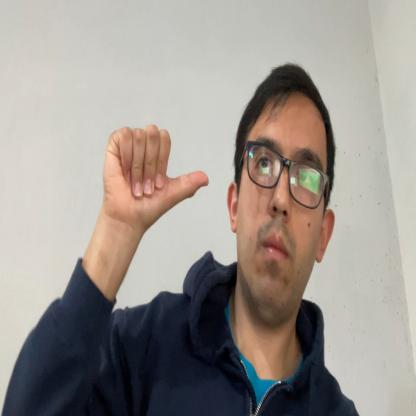A: (101, 123, 210, 232)
